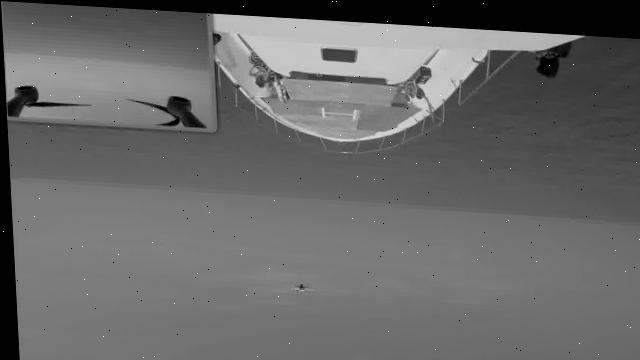drone: (281, 275, 317, 298)
